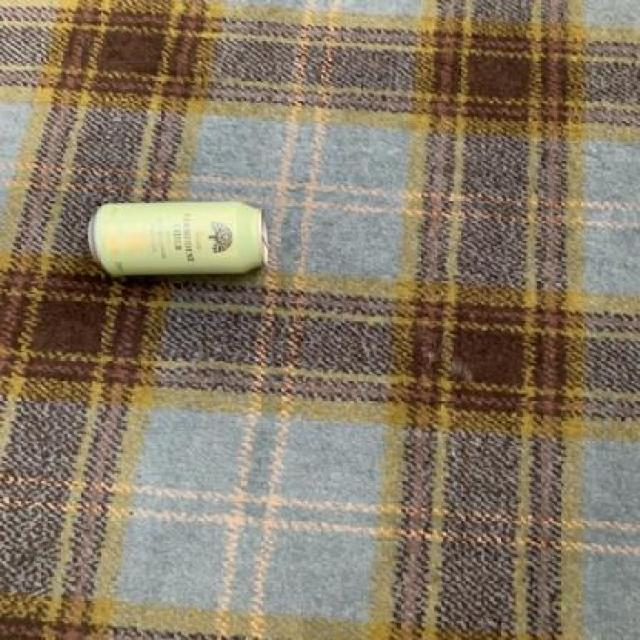trash: (80, 204, 278, 285)
